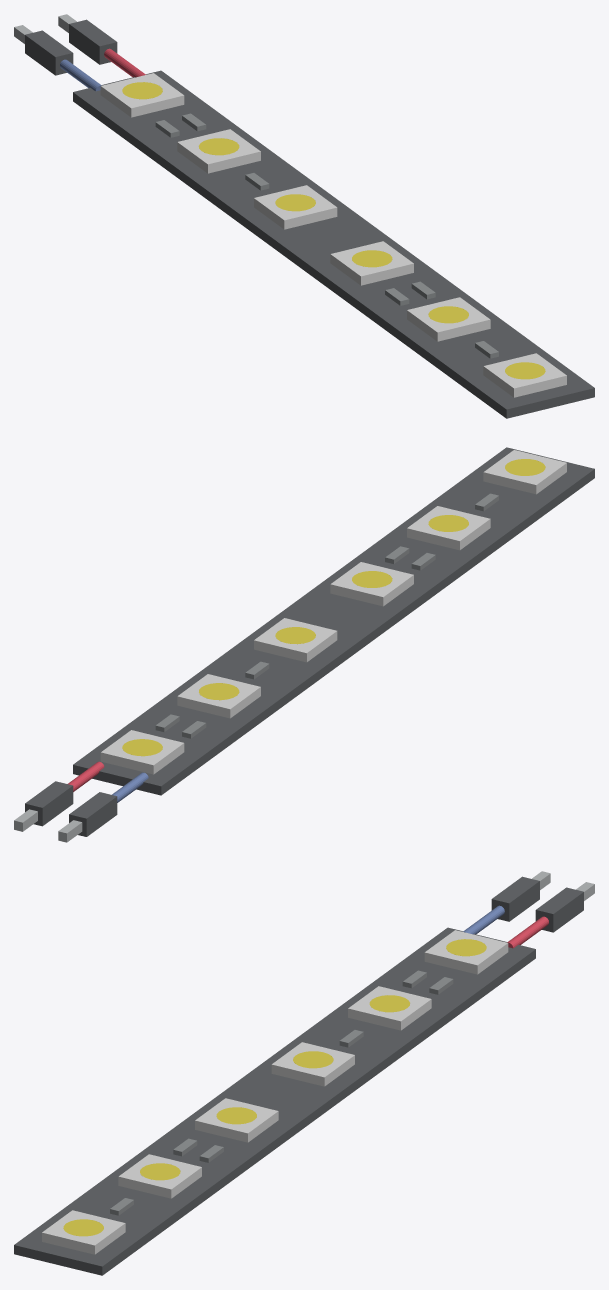
Rendered from LEDStrip.glb.
3 renders of one model, top to bottom at view 1: azimuth 30°, elevation 25°; view 2: azimuth 150°, elevation 25°; view 3: azimuth 330°, elevation 25°, orthographic.
Visible parts, largest first — view 1: Mesh_Mesh_head_geo.001_lambert2SG.001; view 2: Mesh_Mesh_head_geo.001_lambert2SG.001; view 3: Mesh_Mesh_head_geo.001_lambert2SG.001.
Boxes of the visible parts, x1=… form: Mesh_Mesh_head_geo.001_lambert2SG.001: x1=14, y1=14, x2=594, y2=418; Mesh_Mesh_head_geo.001_lambert2SG.001: x1=14, y1=447, x2=594, y2=842; Mesh_Mesh_head_geo.001_lambert2SG.001: x1=14, y1=871, x2=594, y2=1275.
Bounding box in the file's own units: 10 × 2 × 100.
